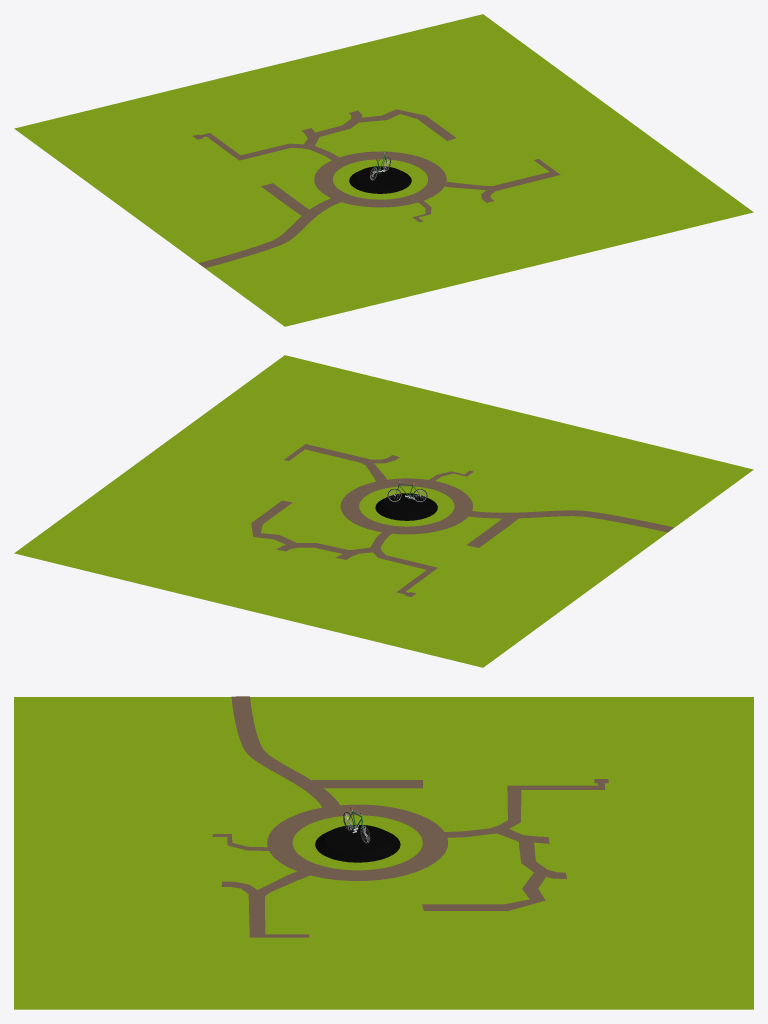
Rendered from Plot1_test.fbx.
The picture shows the model from 3 angles, top to bottom: view 1: azimuth 30°, elevation 25°; view 2: azimuth 150°, elevation 25°; view 3: azimuth 270°, elevation 25°; orthographic projection. The views are drawn at different scales.
Parts seen in each view (by area): view 1: Plane, building_002.009, Väg.001, Circle, Väg.002; view 2: Plane, building_002.009, Väg.001, Circle, Väg.002; view 3: Plane, building_002.009, Väg.001, Circle, Väg.002.
Boxes of the visible parts, left/top/right/bottom form: Plane: left=14, top=14, right=753, bottom=326; building_002.009: left=193, top=109, right=560, bottom=222; Väg.001: left=314, top=151, right=446, bottom=207; Circle: left=349, top=166, right=411, bottom=193; Väg.002: left=198, top=198, right=341, bottom=267; Plane: left=14, top=355, right=753, bottom=667; building_002.009: left=251, top=444, right=518, bottom=596; Väg.001: left=340, top=478, right=472, bottom=534; Circle: left=375, top=493, right=437, bottom=520; Väg.002: left=469, top=510, right=673, bottom=532; Plane: left=14, top=697, right=753, bottom=1009; building_002.009: left=212, top=779, right=608, bottom=937; Väg.001: left=267, top=804, right=447, bottom=880; Circle: left=315, top=824, right=400, bottom=862; Väg.002: left=231, top=696, right=339, bottom=807.
Bounding box in the file's own units: 42.99 × 2.31 × 42.96.
